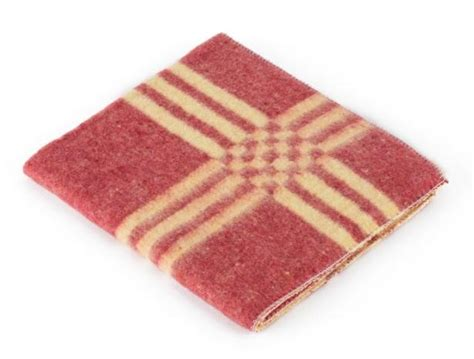gamuza: (23, 32, 448, 332)
